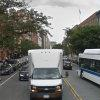Bus: (77, 44, 100, 87)
